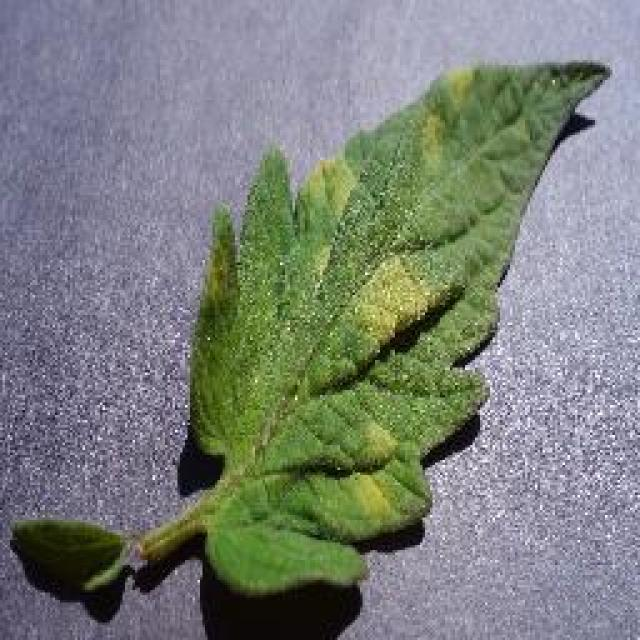Tomato___Leaf_Mold: (11, 60, 614, 592)
